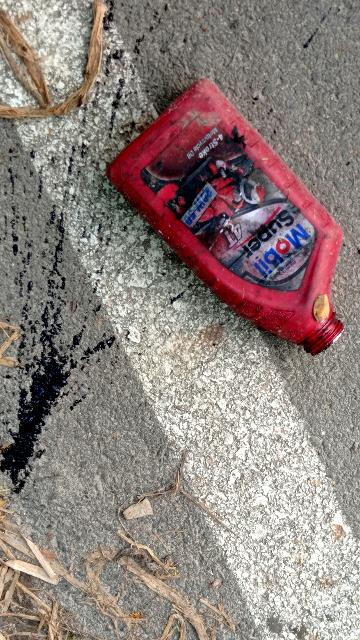bottle: (101, 62, 360, 354)
